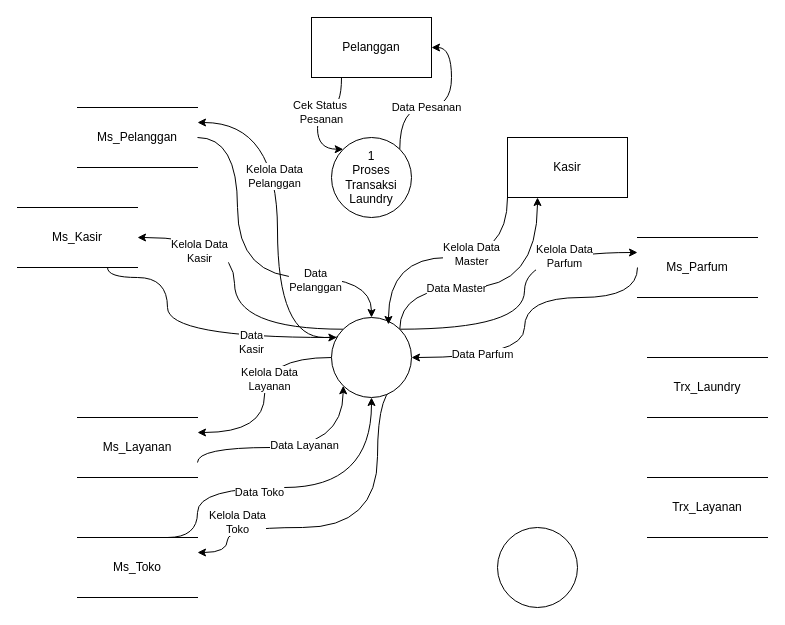
The diagram is 785 pixels wide and 625 high, and some of its shapes have lost their labels. The shapes that lost their labels are listed below. From the top down, each one's centre as x and y in pixels, then its label:
At point 371,357: "2 Manajemen Data Master".
At point 537,567: "3 Laporan Keuangan".
